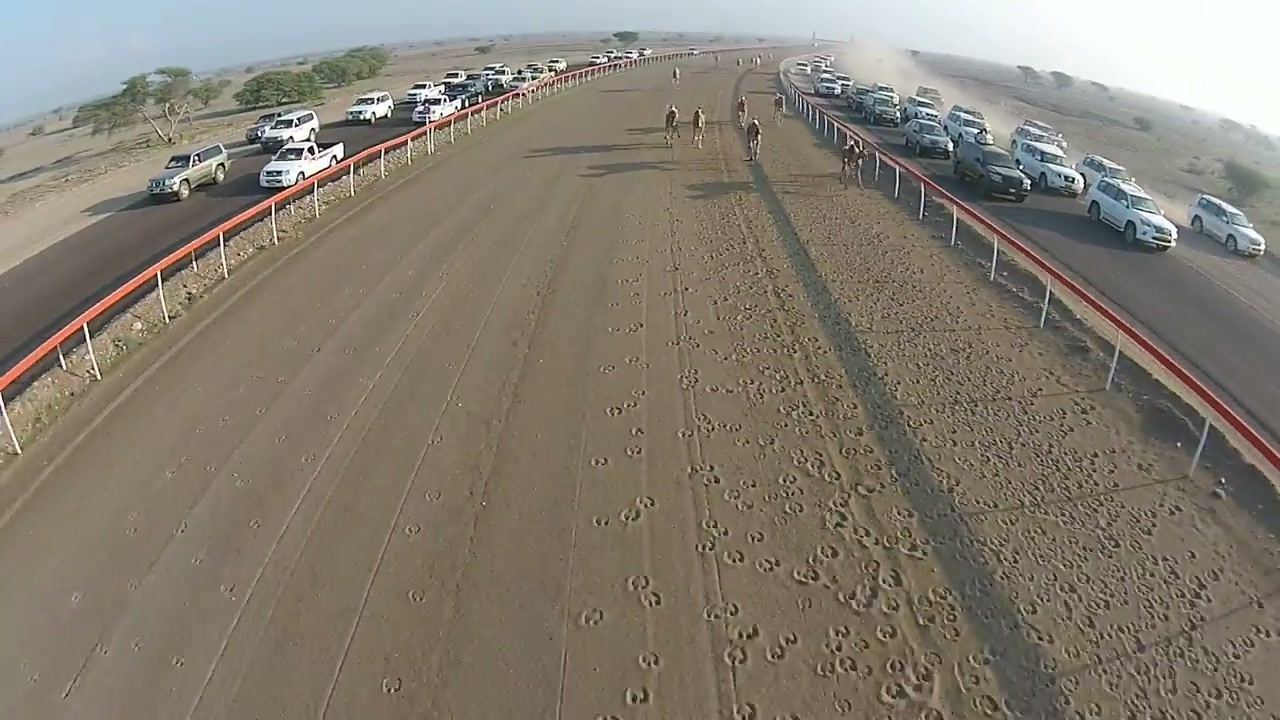animal_footprint: (697, 196, 1229, 716), (647, 230, 921, 694), (974, 502, 1228, 673), (738, 469, 873, 716), (691, 410, 850, 617), (743, 514, 895, 683), (584, 307, 682, 547), (584, 394, 657, 537), (880, 656, 940, 704), (814, 654, 872, 681), (905, 661, 940, 699), (695, 518, 730, 554), (828, 627, 872, 654), (823, 625, 852, 655), (703, 602, 742, 622), (879, 680, 910, 705), (688, 464, 723, 486), (971, 693, 1004, 716), (823, 507, 855, 530), (695, 414, 723, 440), (852, 481, 885, 500), (896, 541, 929, 560), (810, 544, 841, 564), (878, 592, 903, 616), (877, 568, 904, 590), (730, 623, 760, 642), (793, 564, 820, 584), (624, 687, 652, 706), (701, 518, 729, 537), (724, 644, 748, 666), (764, 643, 789, 663), (626, 574, 652, 592), (678, 368, 699, 390), (919, 651, 943, 670), (733, 702, 759, 719), (834, 655, 857, 674), (638, 590, 662, 608), (580, 608, 604, 626), (722, 487, 746, 504), (755, 556, 780, 572), (833, 697, 854, 716), (619, 507, 642, 524), (639, 651, 660, 669), (722, 549, 745, 565), (822, 468, 843, 485), (828, 625, 851, 640), (381, 677, 402, 693), (407, 588, 427, 604), (783, 500, 804, 515), (611, 255, 646, 264), (634, 495, 656, 509), (695, 539, 716, 553), (231, 472, 250, 487), (746, 530, 766, 544), (220, 583, 236, 600), (300, 451, 319, 465), (739, 477, 759, 490), (616, 275, 642, 285), (124, 519, 140, 535), (190, 550, 206, 566), (91, 643, 110, 656), (404, 522, 421, 536), (173, 519, 188, 534), (625, 445, 642, 458), (126, 577, 141, 591), (605, 405, 624, 416), (624, 322, 643, 333), (593, 515, 610, 527), (424, 489, 441, 501), (705, 384, 730, 392), (624, 356, 644, 366), (734, 437, 752, 448), (130, 637, 143, 651), (590, 457, 608, 467), (676, 428, 694, 438), (593, 713, 622, 719), (171, 656, 185, 668), (598, 364, 615, 373), (631, 388, 646, 398), (630, 426, 645, 436), (622, 400, 638, 409), (26, 673, 39, 684), (248, 518, 261, 529), (629, 295, 643, 305)
